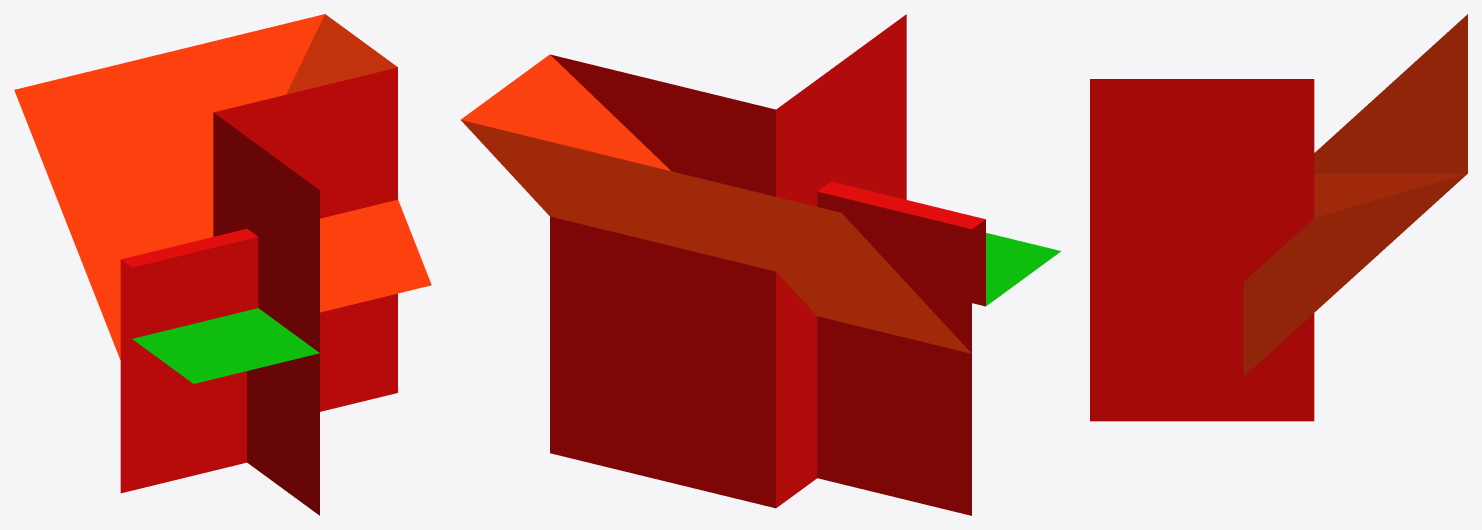
The picture shows the model from 3 angles, left to right: view 1: azimuth 30°, elevation 25°; view 2: azimuth 150°, elevation 25°; view 3: azimuth 270°, elevation 25°; orthographic projection. The views are drawn at different scales.
Parts seen in each view (by area): view 1: None_S_A_E_A_S_W_E_E_None; view 2: None_S_A_E_A_S_W_E_E_None; view 3: None_S_A_E_A_S_W_E_E_None.
Part boxes in pixels (x1,y1,x2,y2): None_S_A_E_A_S_W_E_E_None: (14,14,431,515); None_S_A_E_A_S_W_E_E_None: (460,14,1061,515); None_S_A_E_A_S_W_E_E_None: (1090,14,1467,421).
Size of the model in its own units: 100 by 100 by 100.
